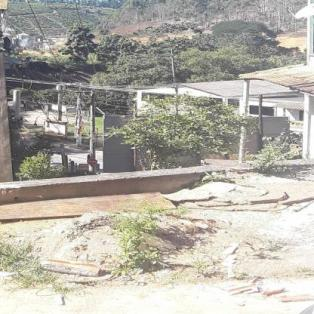Poste: (0, 0, 23, 181)
